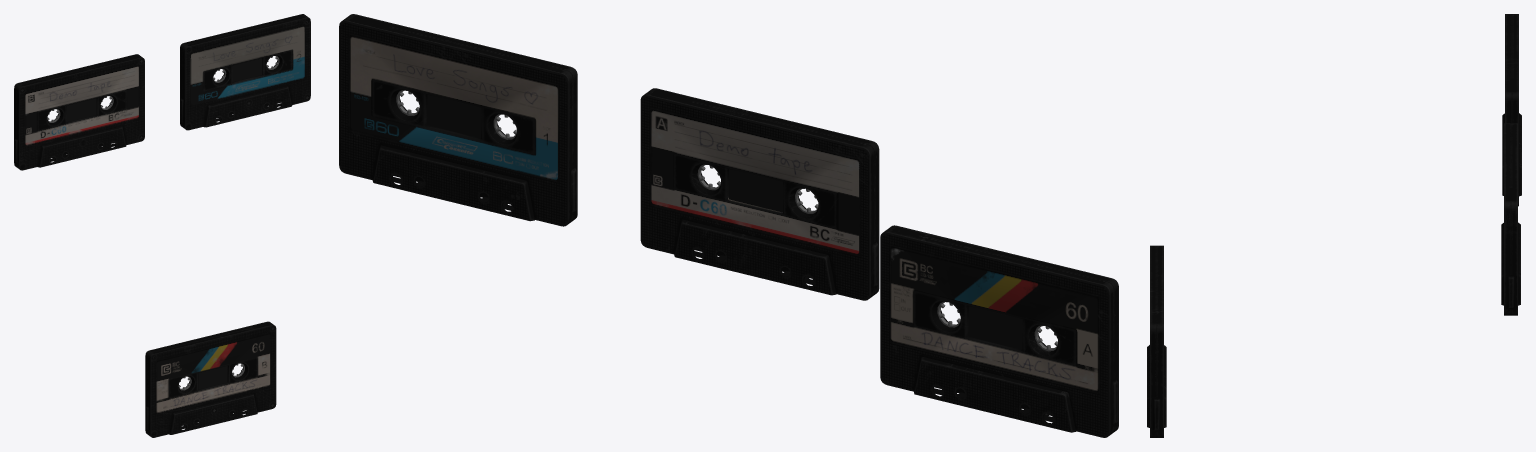
The model's file is Cassette_Tapes.obj.
The picture shows the model from 3 angles, left to right: view 1: azimuth 30°, elevation 25°; view 2: azimuth 150°, elevation 25°; view 3: azimuth 270°, elevation 25°; orthographic projection. The views are drawn at different scales.
Parts seen in each view (by area): view 1: desirefx_me_006, desirefx_me_004, desirefx_me_002, desirefx_me_001, desirefx_me_005, desirefx_me_003; view 2: desirefx_me_004, desirefx_me_002, desirefx_me_006, desirefx_me_005, desirefx_me_001, desirefx_me_003; view 3: desirefx_me_002, desirefx_me_006, desirefx_me_004.
Part boxes in pixels (x1,y1,x2,y2): desirefx_me_006: (145, 321, 276, 437); desirefx_me_004: (14, 54, 144, 170); desirefx_me_002: (180, 14, 310, 130); desirefx_me_001: (232, 58, 262, 81); desirefx_me_005: (198, 366, 227, 389); desirefx_me_003: (67, 98, 96, 121); desirefx_me_004: (640, 88, 879, 300); desirefx_me_002: (339, 14, 577, 226); desirefx_me_006: (880, 225, 1118, 437); desirefx_me_005: (968, 306, 1022, 349); desirefx_me_001: (427, 95, 481, 137); desirefx_me_003: (729, 169, 782, 212); desirefx_me_002: (1501, 123, 1520, 315); desirefx_me_006: (1147, 245, 1166, 437); desirefx_me_004: (1502, 14, 1521, 206).
Bounding box in the file's own units: 1.25 × 1.04 × 1.02.
